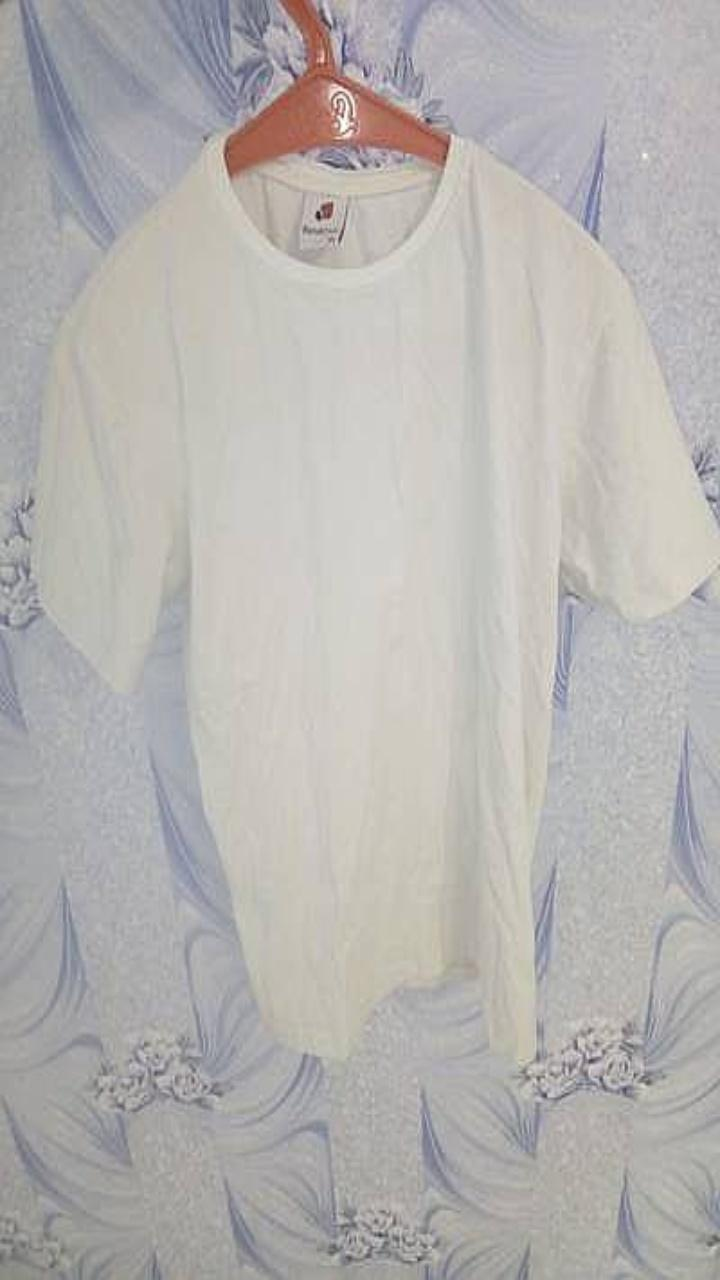T-Shirt: (31, 131, 719, 1062)
